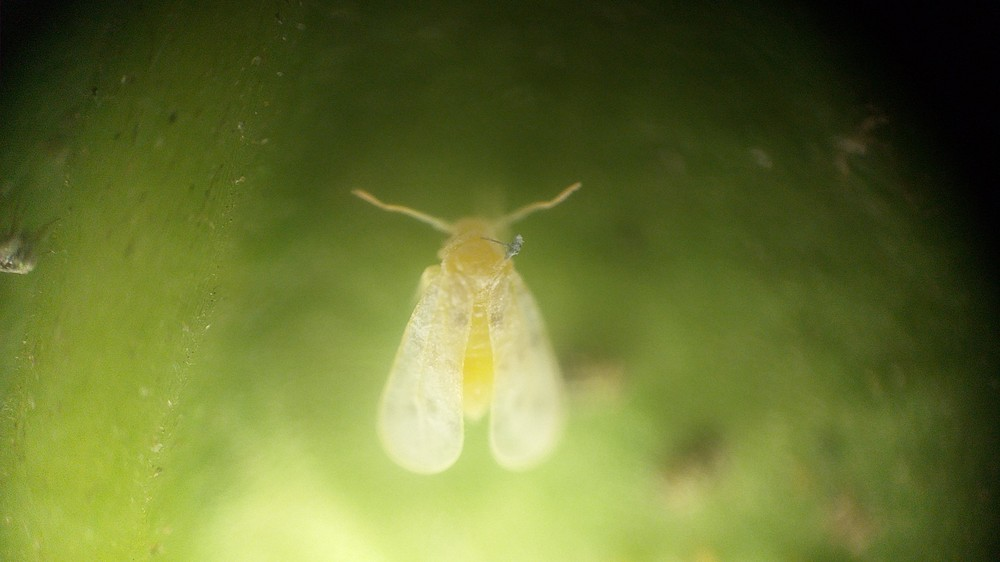Mosca Blanca: (328, 172, 607, 484)
